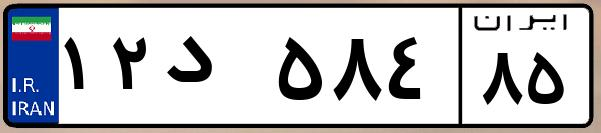1: (57, 26, 110, 100)
2: (110, 28, 158, 98)
4: (385, 28, 445, 110)
5: (270, 28, 330, 110), (525, 38, 570, 115)
8: (330, 28, 385, 110), (475, 38, 525, 113)
د: (158, 20, 270, 120)
